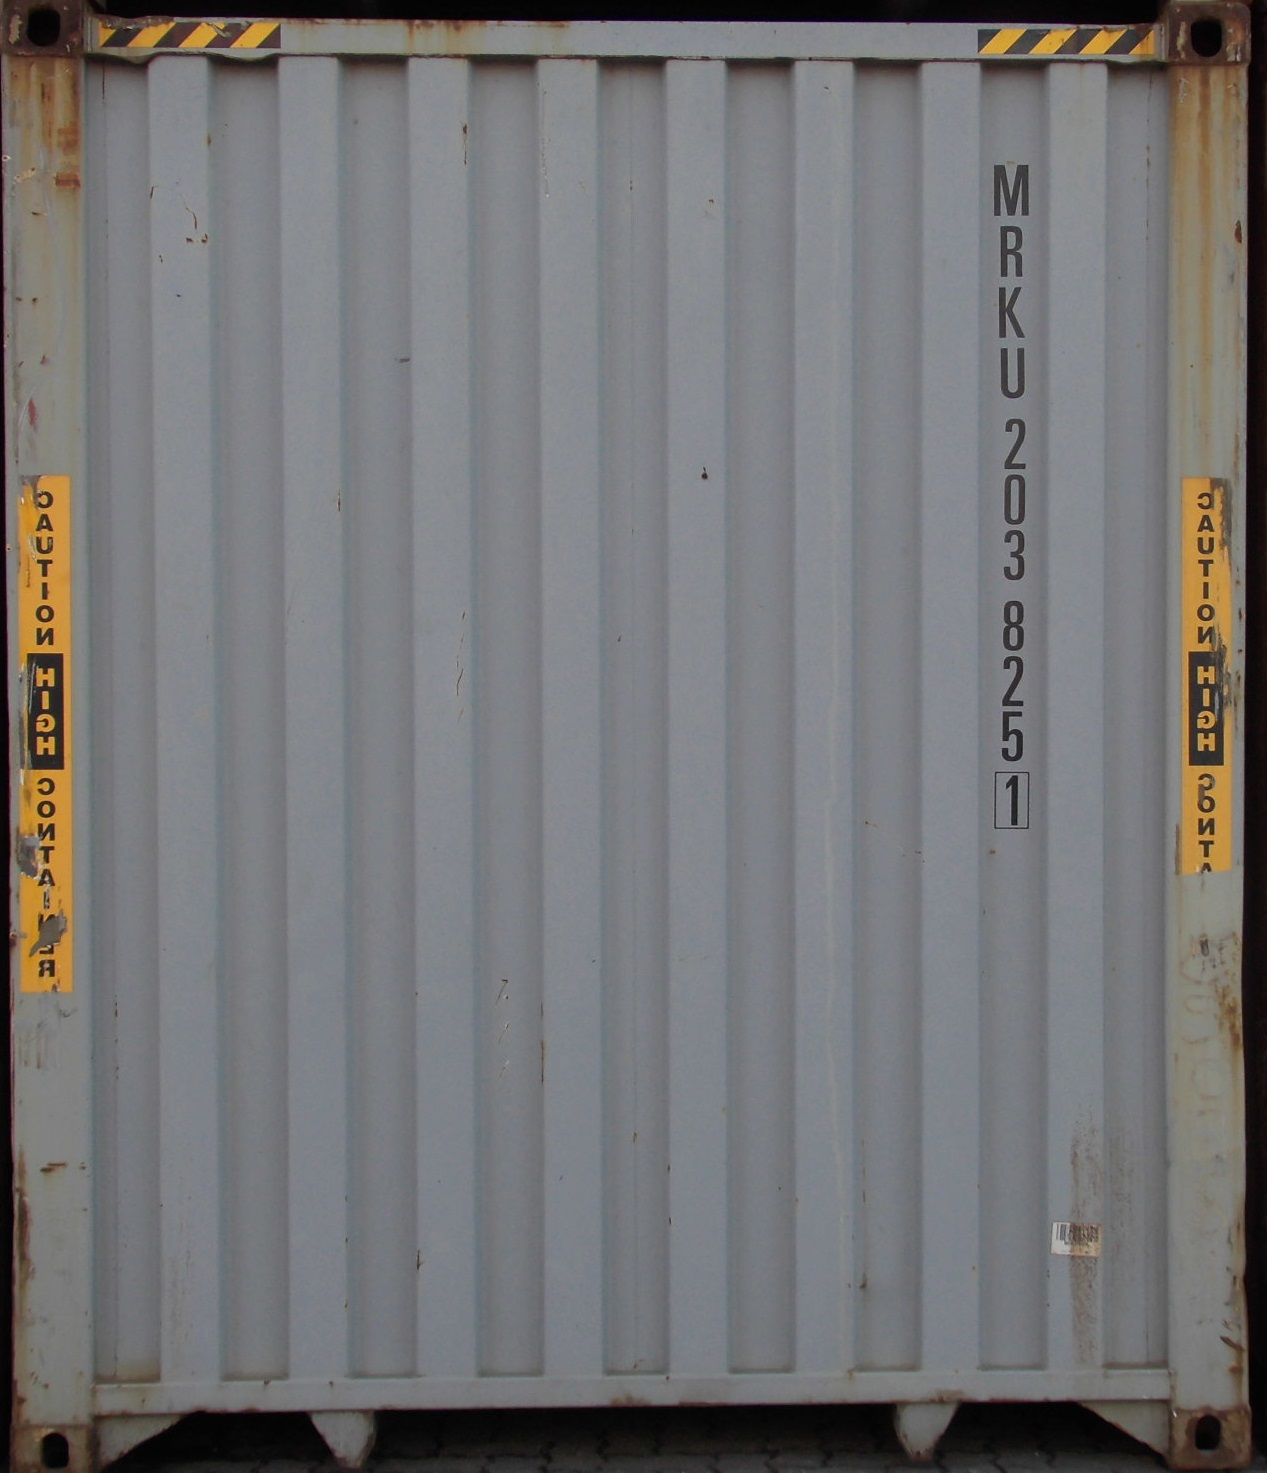container_no_door: (14, 29, 1242, 1448)
